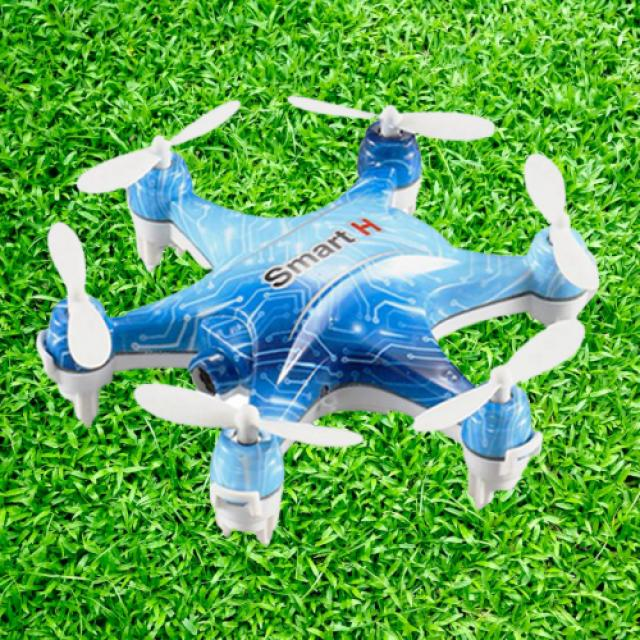drones: (28, 83, 600, 540)
